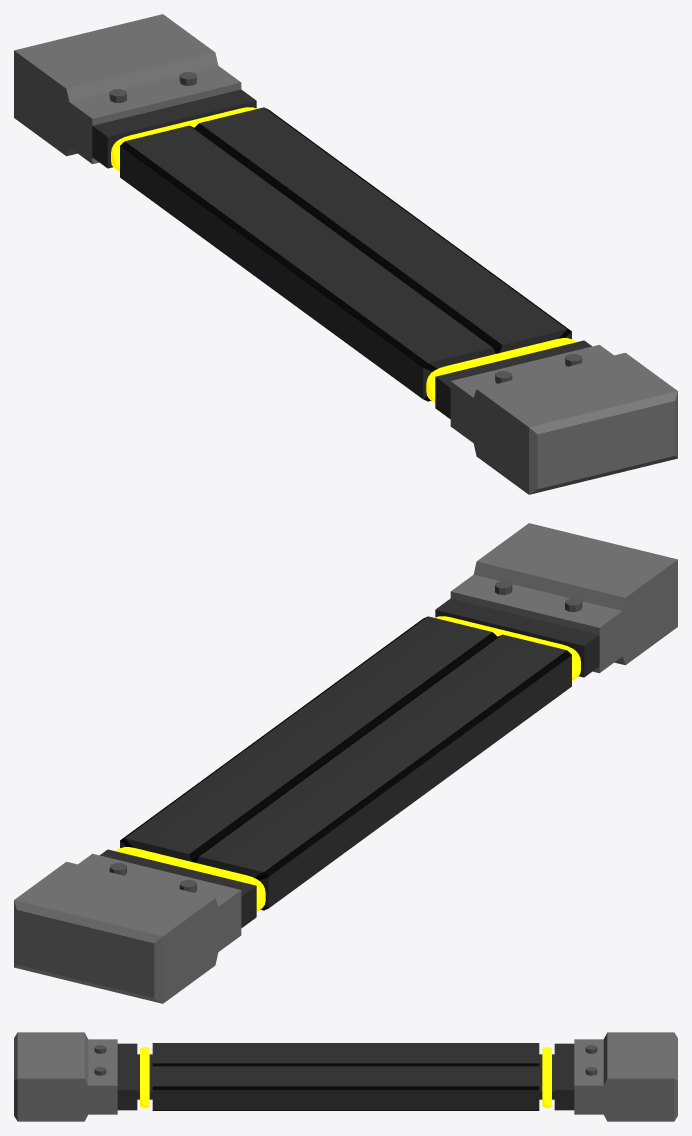
Rendered from PlatformSegmentHalf.fbx.
3 renders of one model, top to bottom at view 1: azimuth 30°, elevation 25°; view 2: azimuth 150°, elevation 25°; view 3: azimuth 270°, elevation 25°, orthographic. The views are drawn at different scales.
Visible parts, largest first — view 1: HangerPlatformSegment, PlatformEmissive, Bolts; view 2: HangerPlatformSegment, PlatformEmissive, Bolts; view 3: HangerPlatformSegment, PlatformEmissive, Bolts.
Boxes of the visible parts, bbox=[...] form: HangerPlatformSegment: bbox=[14, 14, 677, 494]; PlatformEmissive: bbox=[111, 107, 576, 402]; Bolts: bbox=[109, 72, 582, 383]; HangerPlatformSegment: bbox=[14, 523, 677, 1003]; PlatformEmissive: bbox=[115, 616, 580, 911]; Bolts: bbox=[109, 581, 582, 892]; HangerPlatformSegment: bbox=[14, 1032, 677, 1121]; PlatformEmissive: bbox=[140, 1047, 551, 1108]; Bolts: bbox=[94, 1045, 597, 1075].
Bounding box in the file's own units: 1.52 × 0.6437 × 9.
